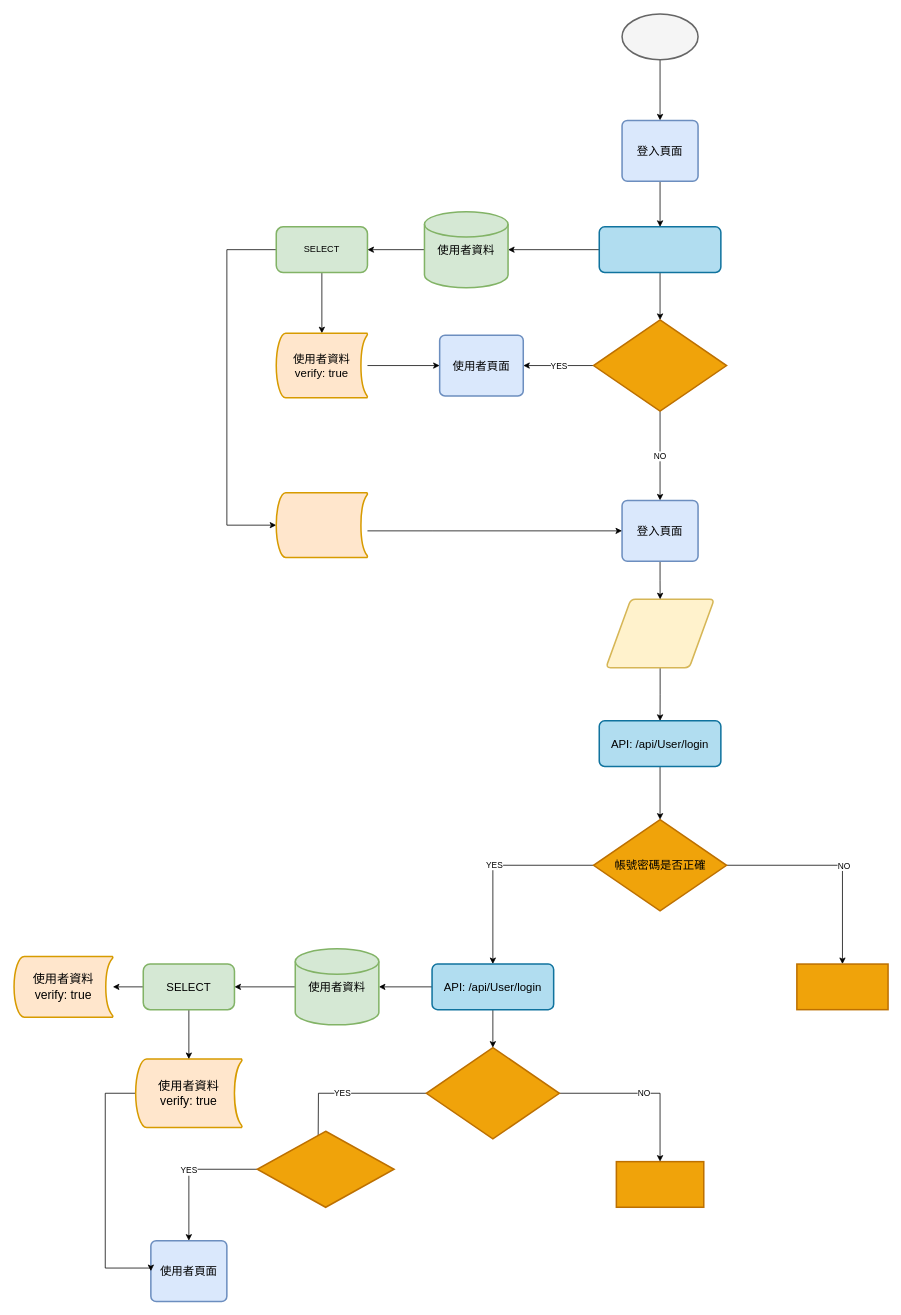
Image size: 901x1315. Some labels were removed from this diagram. The shapes that lost their labels are listed below. From the top down, each one's box as (x1, y1, x2, y2) in pixels, then its label:
(621, 13, 698, 60): Start
(598, 226, 721, 273): API: /api/User
(592, 319, 727, 412): 使用者是否登入過
(275, 492, 368, 558): 使用者資料 verify: false
(605, 598, 715, 668): 輸入帳號密碼
(425, 1047, 560, 1139): 使用者是否註冊過
(256, 1130, 394, 1208): 信箱是否驗證過
